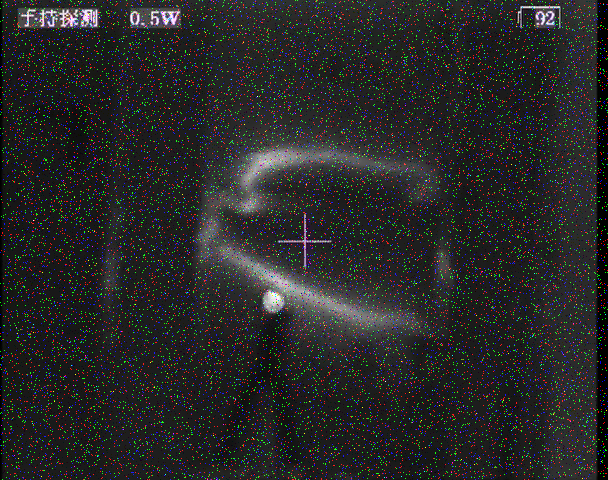my: (263, 287, 288, 314)
